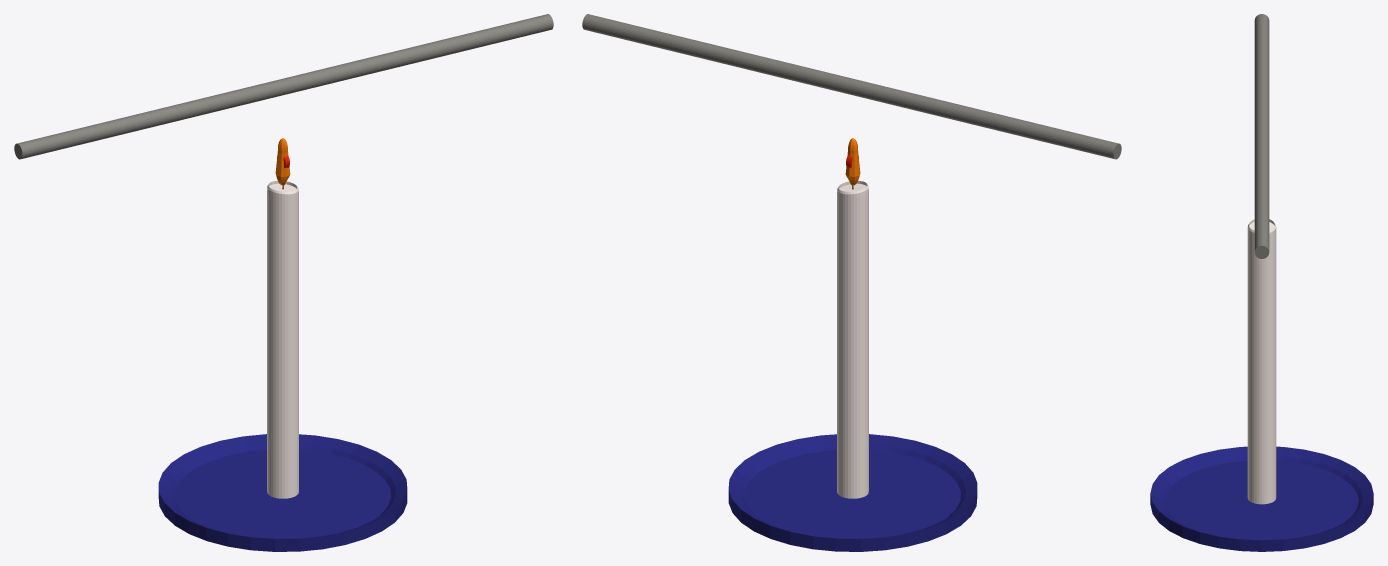
Rendered from Konduksi.fbx.
The picture shows the model from 3 angles, left to right: view 1: azimuth 30°, elevation 25°; view 2: azimuth 150°, elevation 25°; view 3: azimuth 270°, elevation 25°; orthographic projection. The views are drawn at different scales.
Parts seen in each view (by area): view 1: Cylinder, Cylinder.001; view 2: Cylinder, Cylinder.001; view 3: Cylinder, Cylinder.001.
Part boxes in pixels (x1,y1,x2,y2): Cylinder: (158,138,407,551); Cylinder.001: (14,14,553,159); Cylinder: (728,138,977,551); Cylinder.001: (582,14,1121,159); Cylinder: (1150,219,1373,551); Cylinder.001: (1254,14,1269,258).
Bounding box in the file's own units: 708 × 544 × 288.
